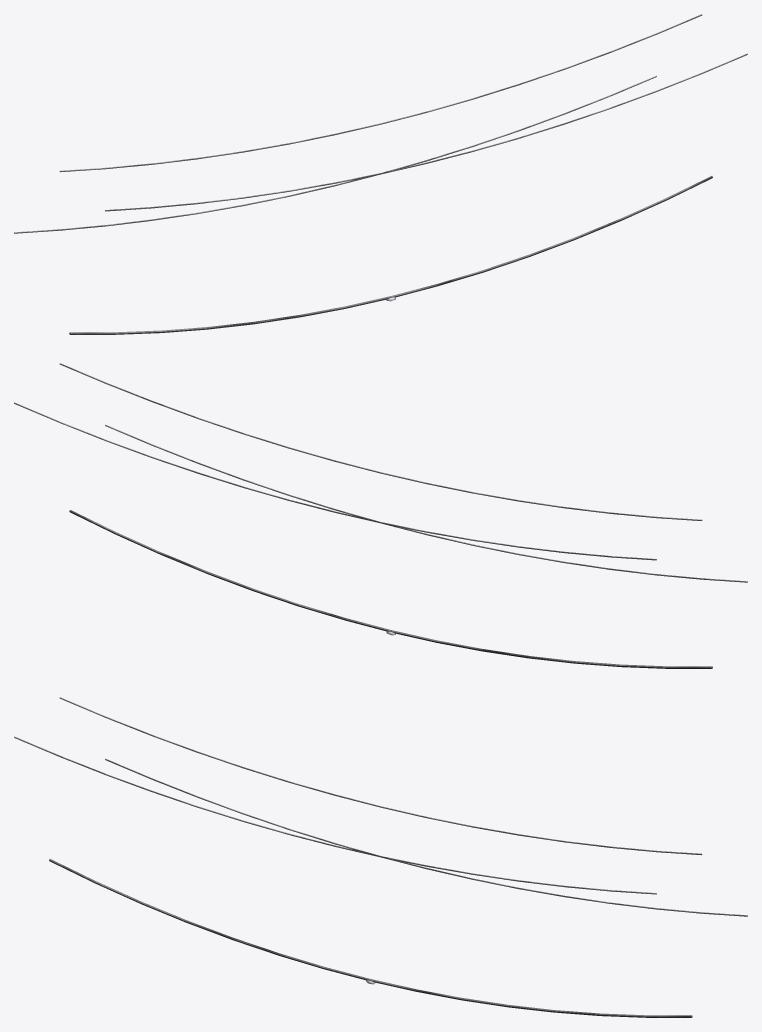
File: cable_span.glb
3 views of the same model, one above another, from view 1: azimuth 30°, elevation 25°; view 2: azimuth 150°, elevation 25°; view 3: azimuth 330°, elevation 25° (orthographic).
Parts seen in each view (by area): view 1: cable_span; view 2: cable_span; view 3: cable_span.
Boxes of the visible parts, x1,y1,x2,y2 form: cable_span: [14, 14, 747, 334]; cable_span: [14, 363, 747, 668]; cable_span: [14, 697, 747, 1017].
Bounding box in the file's own units: 13.7 × 3.59 × 0.3839.
1 material, 1 textured.
